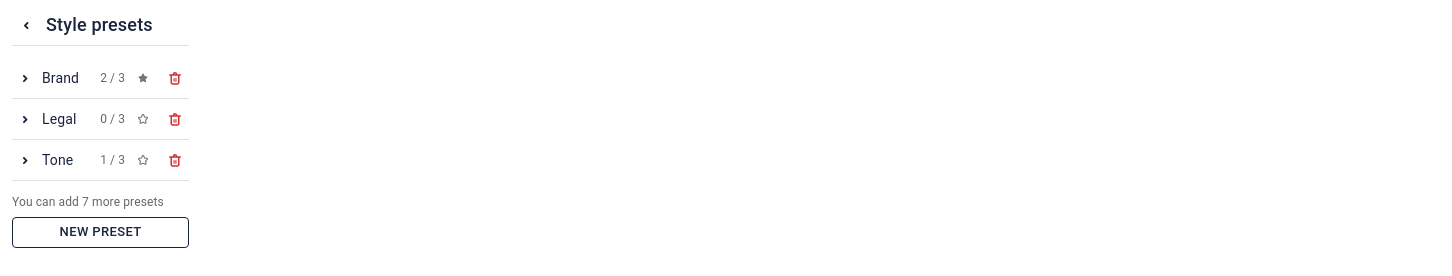
deleting from the list (contract: two presses — the first arms it, renaming the button "Delete <name> — tap again, removes <n> language" and replacing that row' › pressing away from the armed button › disarms when the press lands outside the panel entirely
This screenshot has width=1452, height=276.
Click the button named "Delete Tone" at (175, 160), box [161, 146, 189, 174]
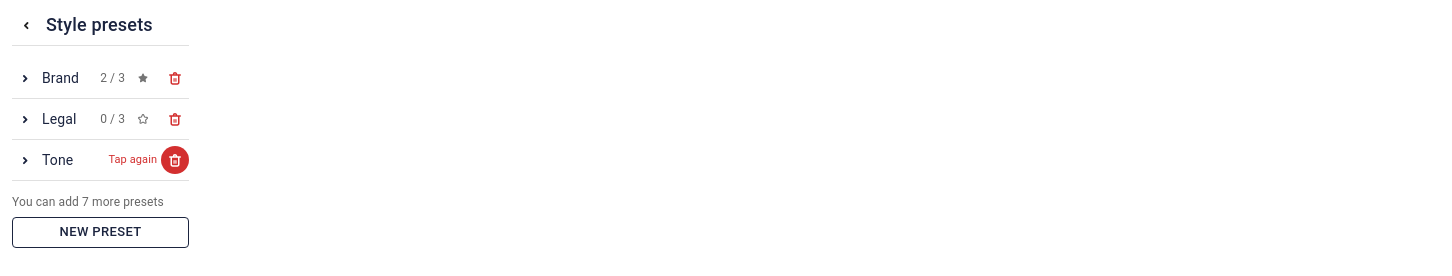
Check: the text "Tap again" is shown, box [108, 153, 157, 166]
Press the mouse on the element that starts with "Style presets" at (732, 130), box [12, 0, 1451, 260]
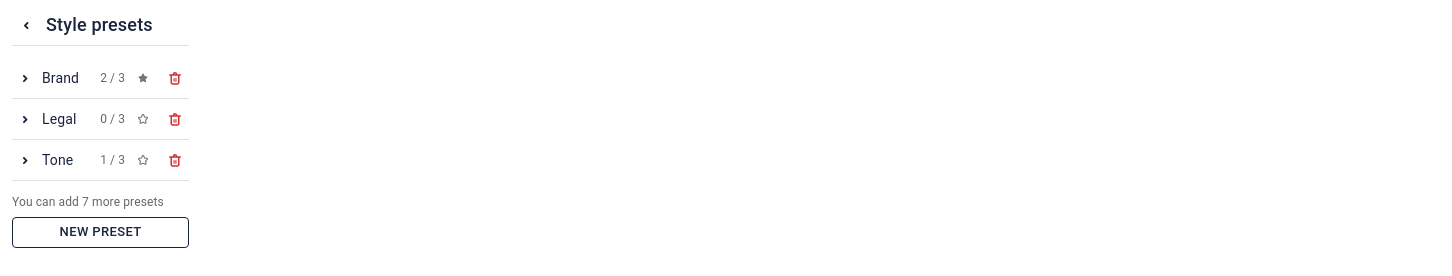
Check: the text "Tap again" is gone
